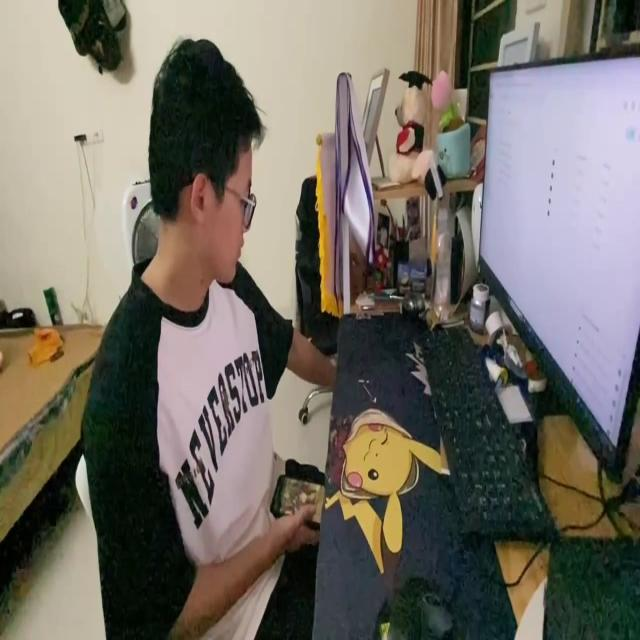laptop: (476, 40, 640, 485)
phone: (271, 465, 325, 530)
student: (80, 37, 340, 640)
